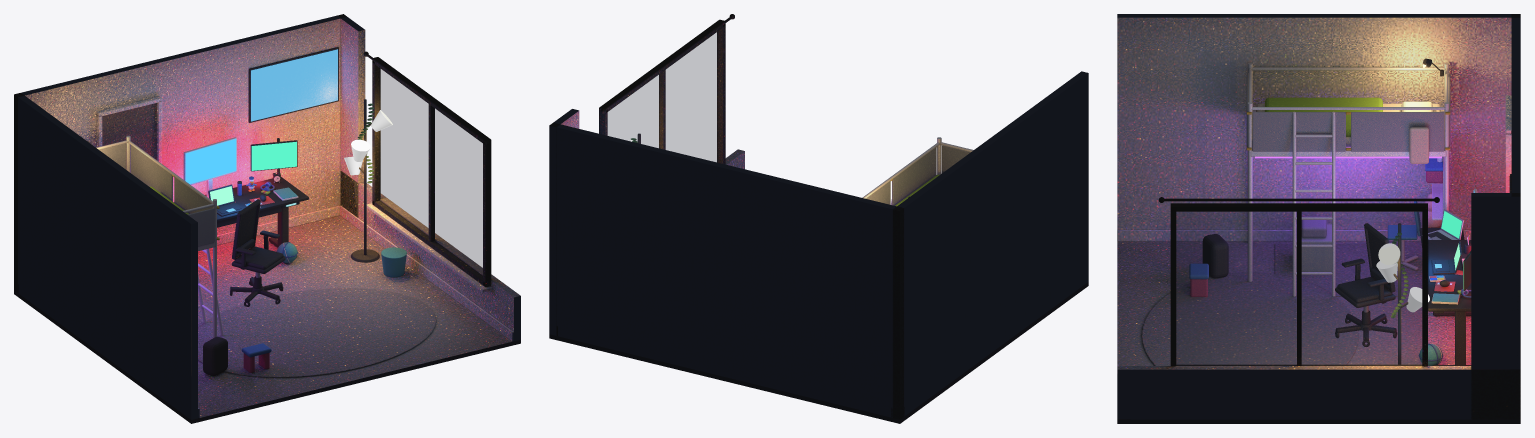
Rendered from room-v4.glb.
3 views of the same model, side by side, from view 1: azimuth 30°, elevation 25°; view 2: azimuth 150°, elevation 25°; view 3: azimuth 270°, elevation 25° (orthographic). The views are drawn at different scales.
Parts seen in each view (by area): view 1: room_shell, window_glass, room_props, desk_items, chair, screen_main, screen_side; view 2: room_shell, window_glass, room_props; view 3: room_shell, window_glass, room_props, desk_items, chair, led_strip_bed.
Boxes of the visible parts, bbox=[...] form: room_shell: bbox=[14, 14, 520, 423]; window_glass: bbox=[379, 68, 482, 275]; room_props: bbox=[87, 99, 406, 375]; desk_items: bbox=[174, 137, 308, 227]; chair: bbox=[230, 199, 285, 306]; screen_main: bbox=[185, 139, 236, 183]; screen_side: bbox=[251, 141, 296, 170]; room_shell: bbox=[549, 14, 1088, 423]; window_glass: bbox=[608, 32, 717, 162]; room_props: bbox=[630, 133, 973, 206]; room_shell: bbox=[1117, 14, 1520, 423]; window_glass: bbox=[1176, 212, 1421, 365]; room_props: bbox=[1189, 58, 1471, 365]; desk_items: bbox=[1419, 188, 1477, 313]; chair: bbox=[1335, 223, 1397, 346]; led_strip_bed: bbox=[1255, 156, 1441, 158].
Bounding box in the file's own units: 4.4 × 2.55 × 4.1.
11 materials, 4 textured.
